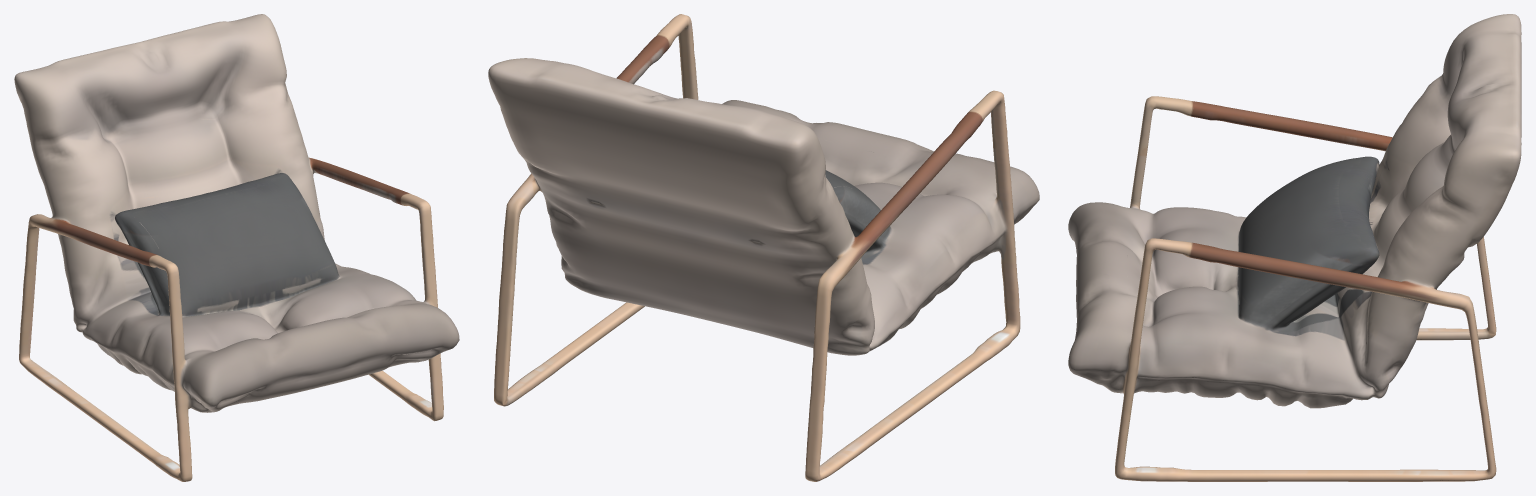
File: armchair.glb
The picture shows the model from 3 angles, left to right: view 1: azimuth 30°, elevation 25°; view 2: azimuth 150°, elevation 25°; view 3: azimuth 270°, elevation 25°; orthographic projection. The views are drawn at different scales.
Parts seen in each view (by area): view 1: model; view 2: model; view 3: model.
Boxes of the visible parts, x1,y1,x2,y2 form: model: (14,14,459,481); model: (488,14,1039,481); model: (1068,14,1521,481).
Size of the model in its own units: 1.49 by 1.52 by 1.91.
1 material, 1 textured.
